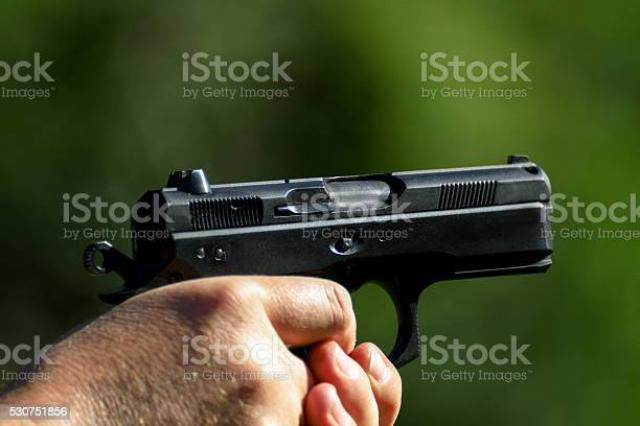handgun: (80, 150, 562, 408)
